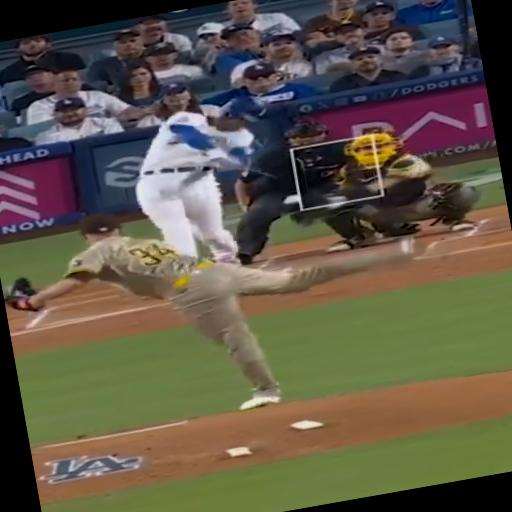bat: (250, 166, 335, 199)
